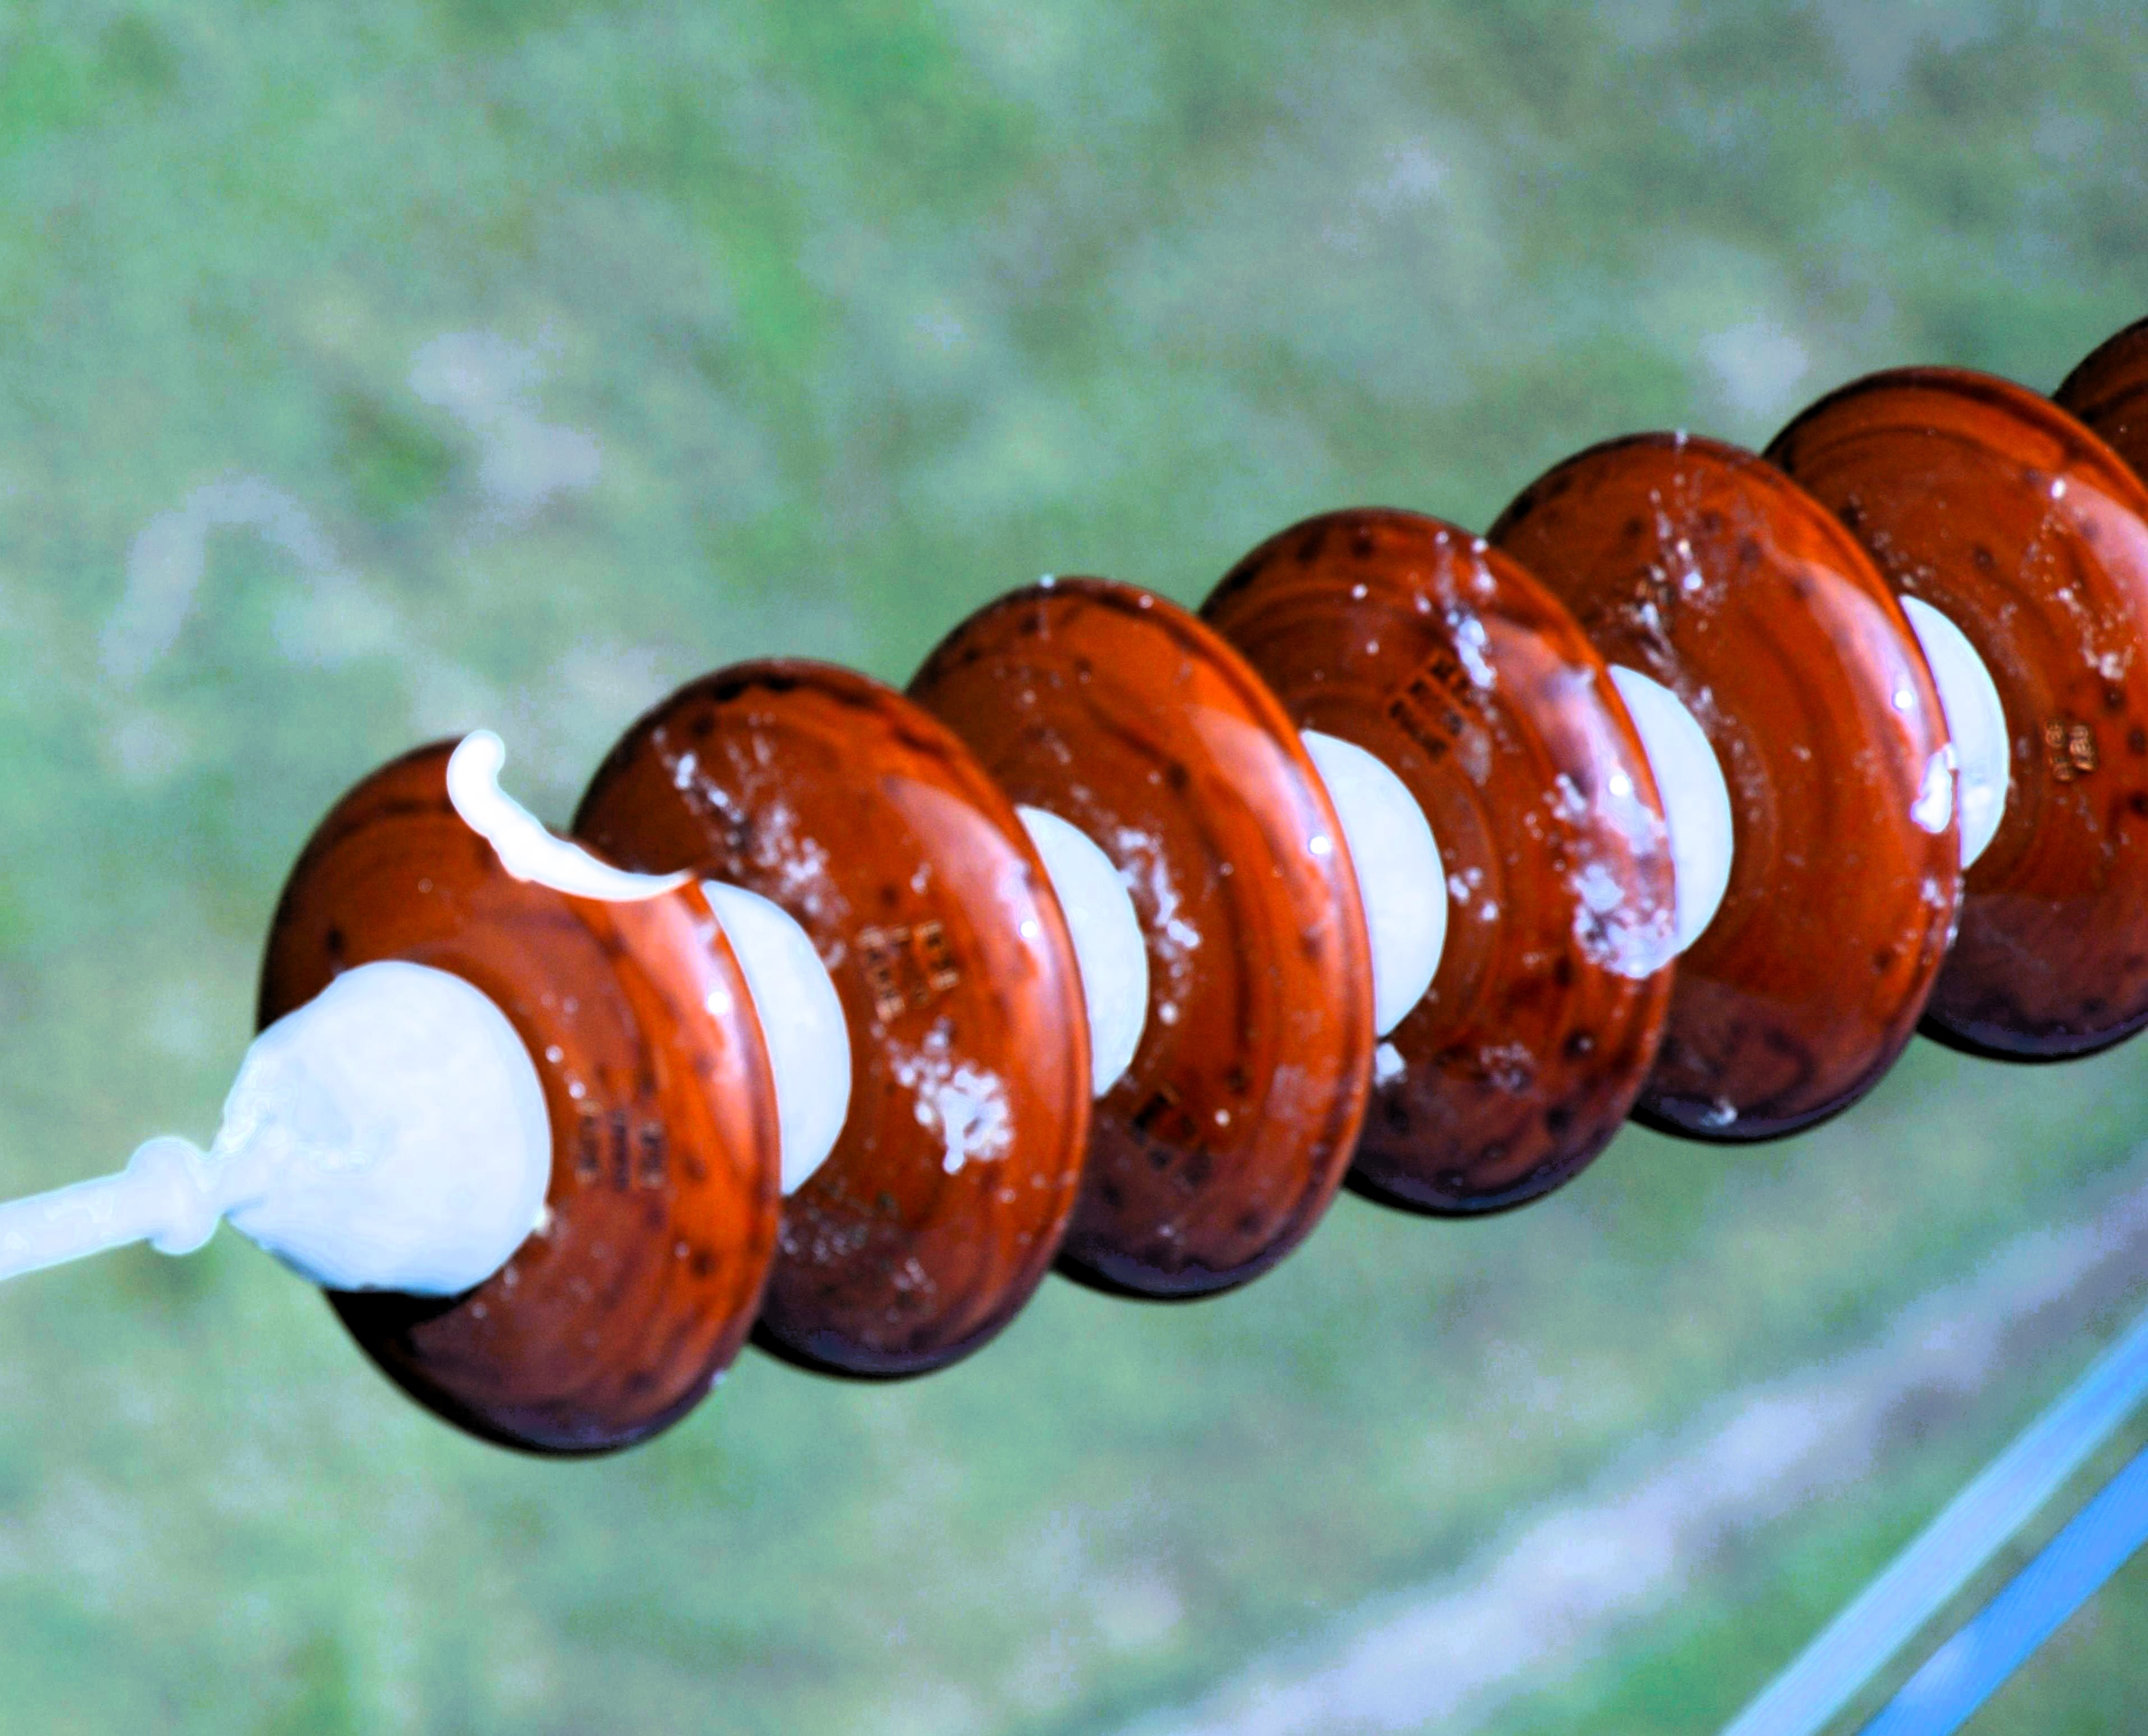insulator breakage: (241, 712, 792, 1483)
